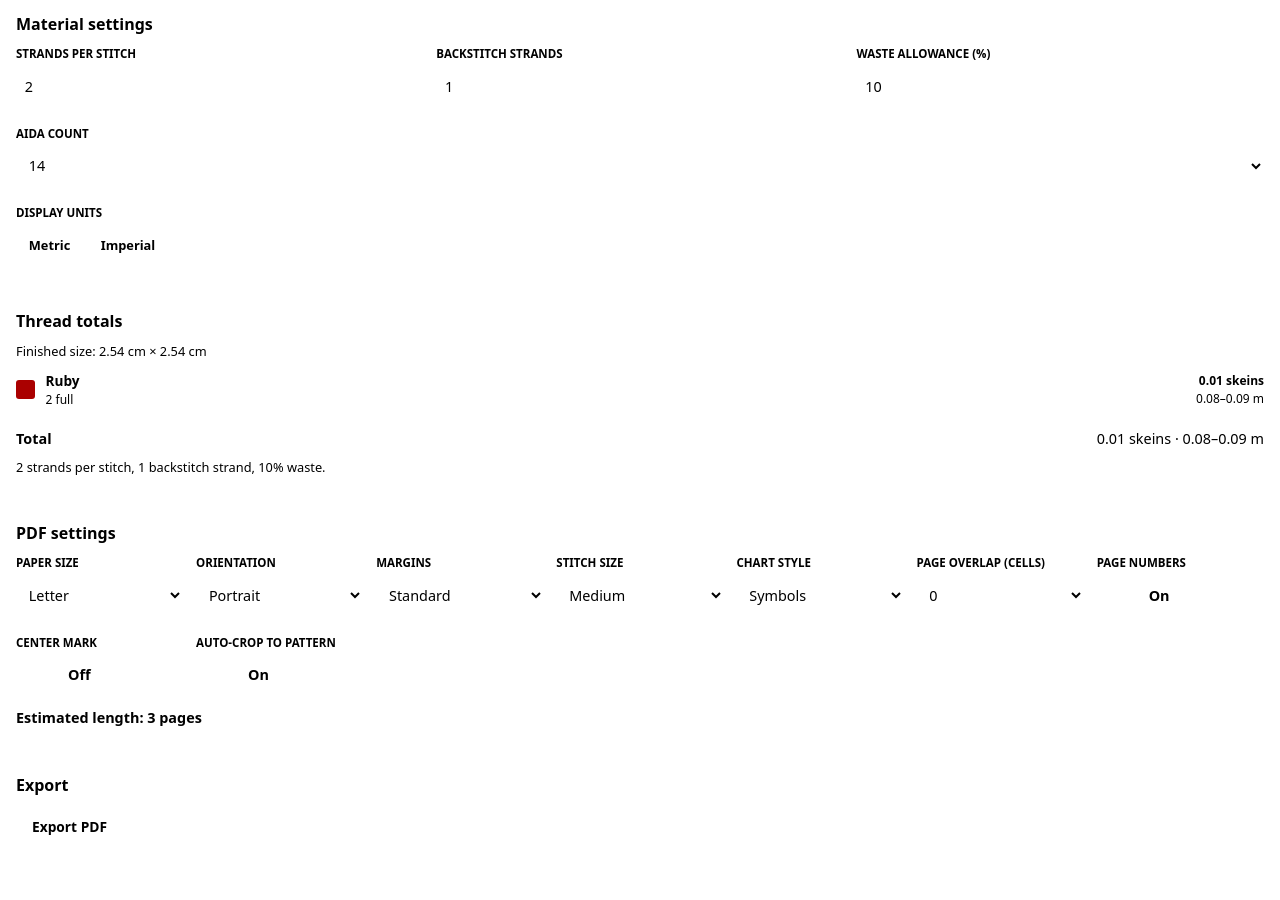
Test case: ExportPanel › saves strands, backstitch strands and waste automatically
Replace the text in the number field labelled "Strands per stitch" with "3" at (220, 86), box [16, 67, 424, 106]
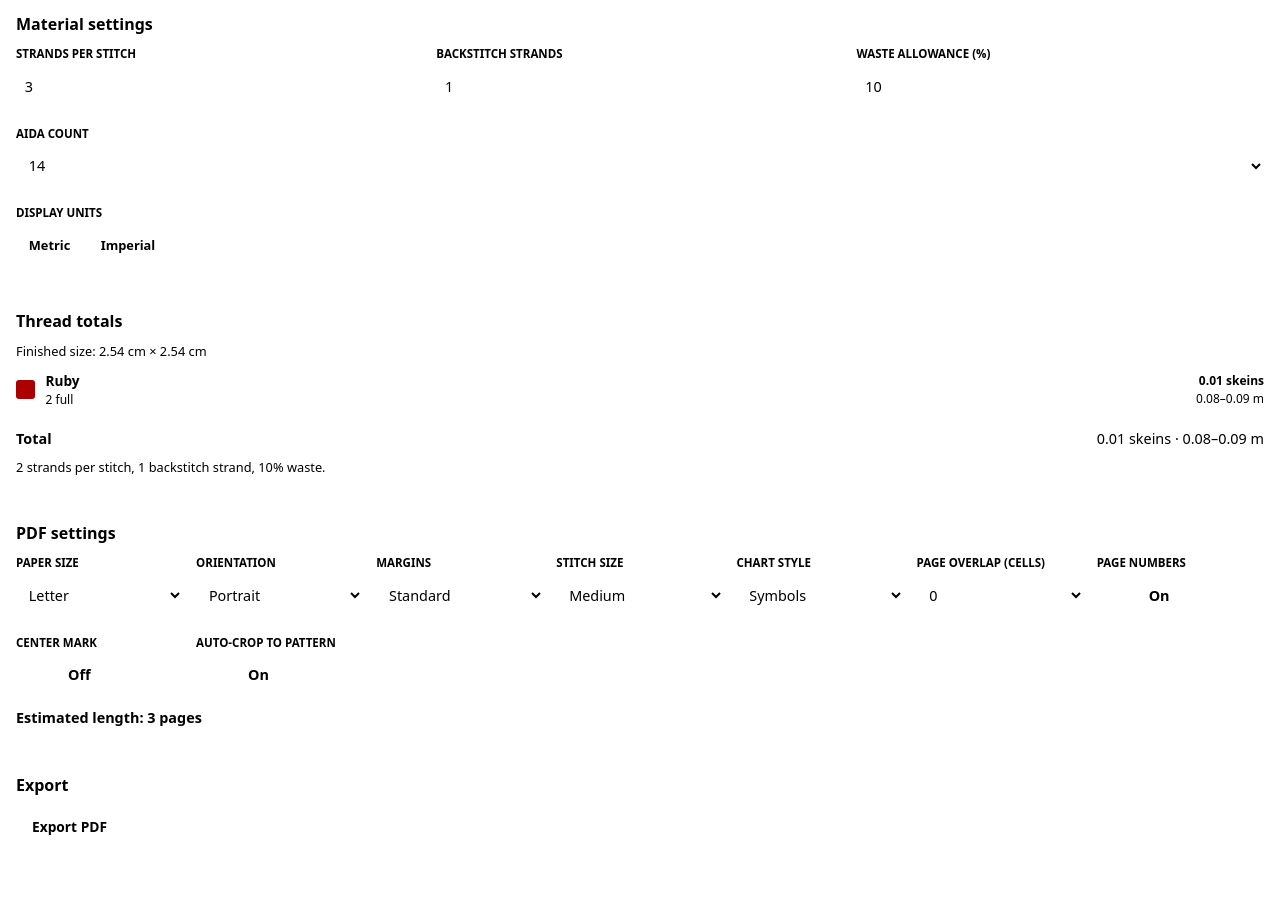
Replace the text in the number field labelled "Backstitch strands" with "2" at (640, 86), box [436, 67, 844, 106]
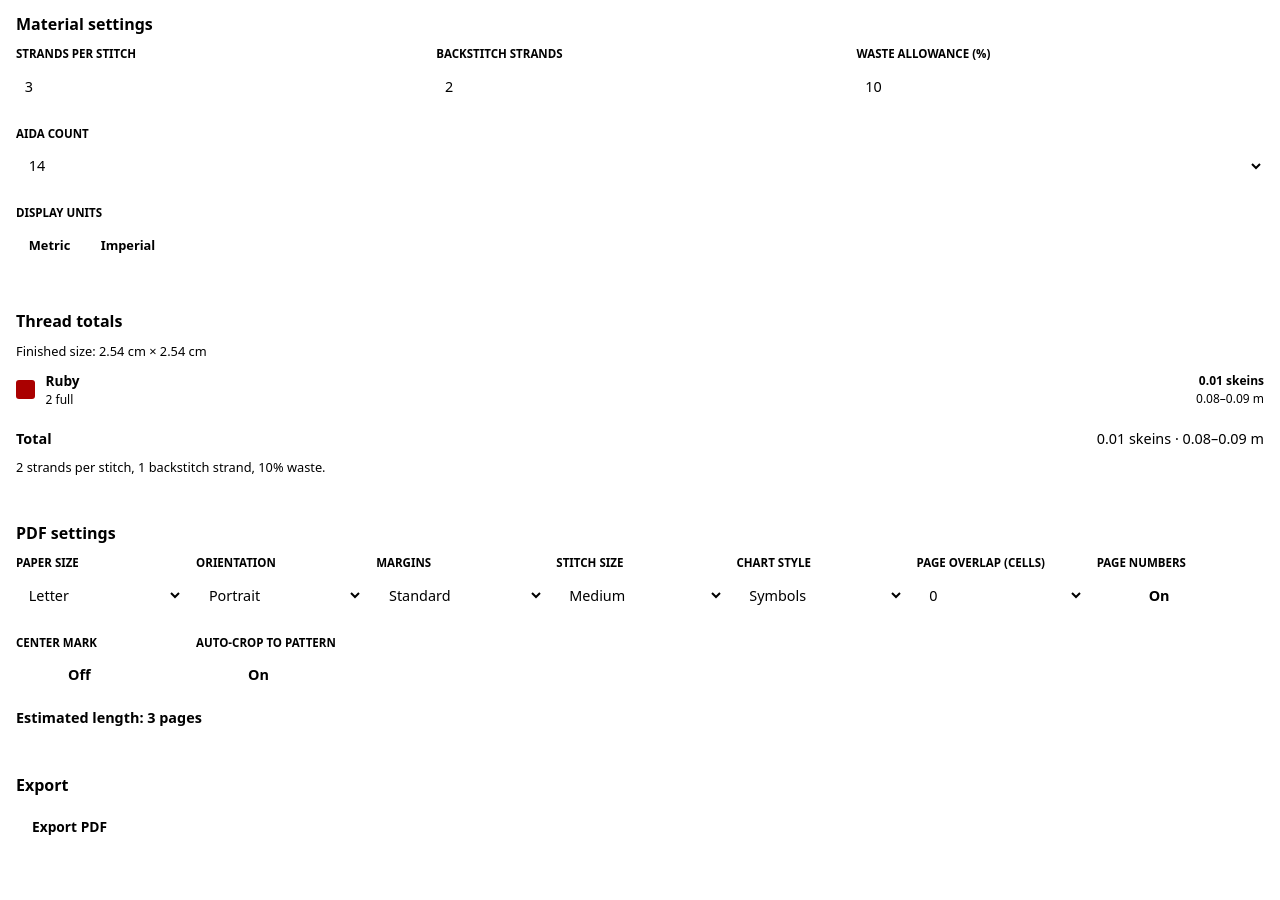
Replace the text in the number field labelled "Waste allowance (%)" with "25" at (1060, 86), box [856, 67, 1264, 106]
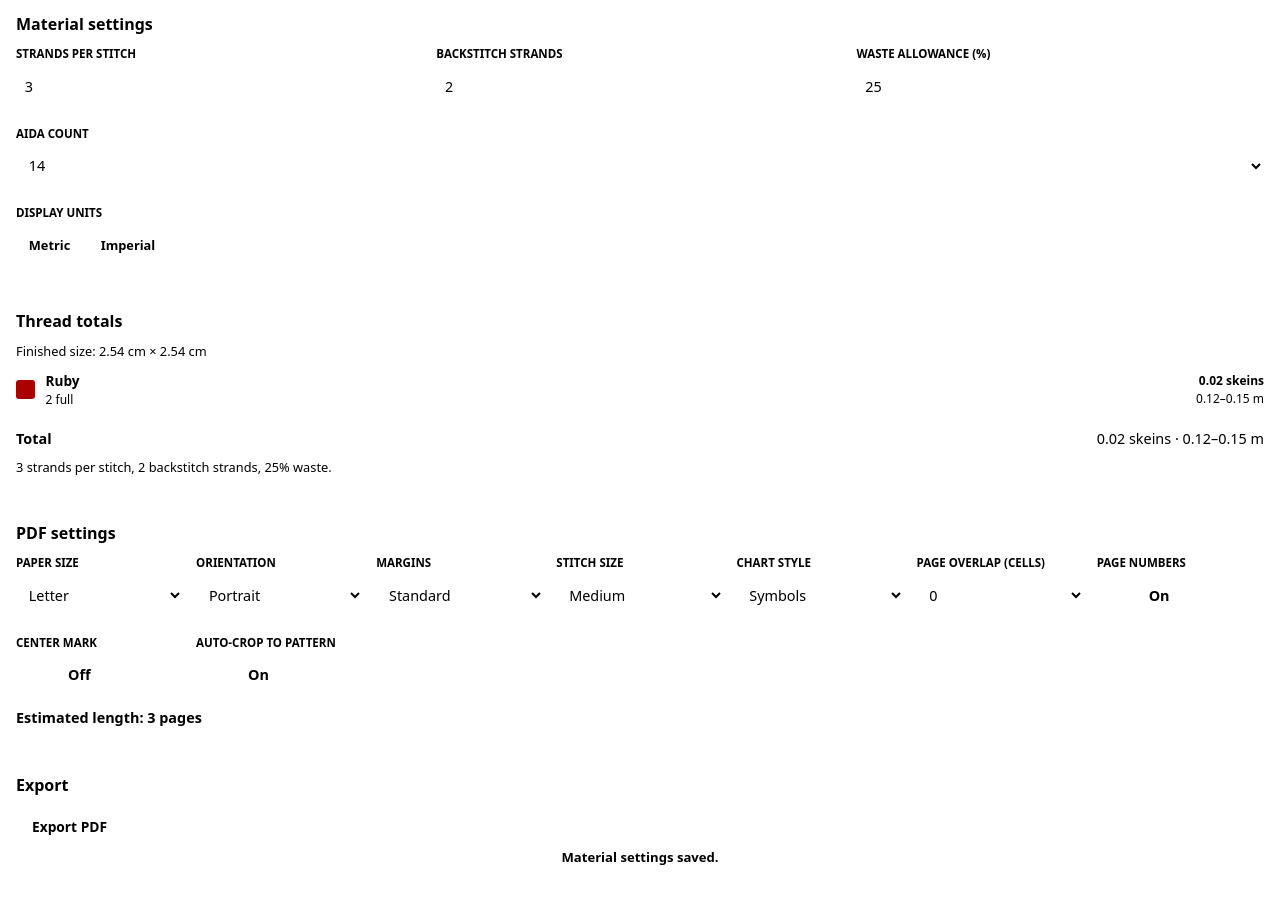
Expected: the text "Material settings saved." is shown, [561, 848, 719, 867]
Expected: the text "3 strands per stitch, 2 backstitch strands, 25% waste." is shown, [16, 458, 332, 476]
